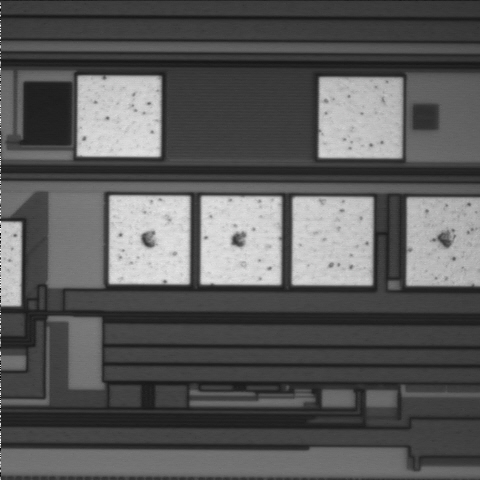pad: (109, 196, 190, 284), (201, 196, 281, 285), (292, 197, 372, 285), (77, 76, 160, 157), (319, 78, 401, 158)
